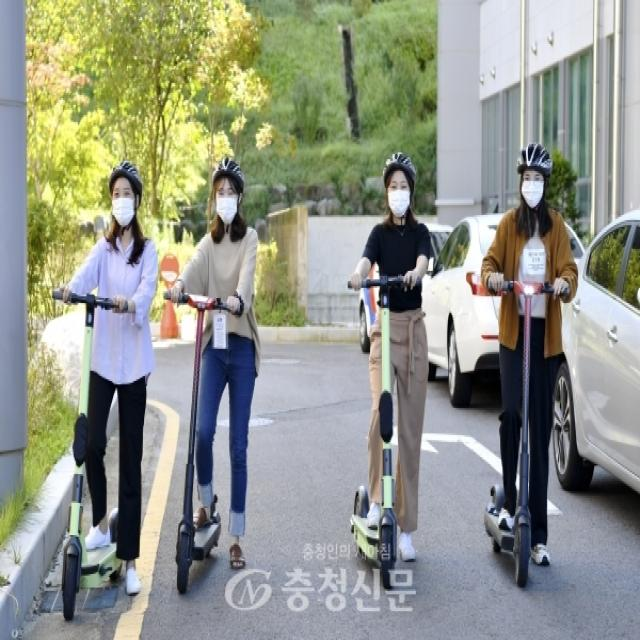helmet: (49, 153, 158, 624), (163, 154, 264, 600), (482, 140, 580, 594), (346, 150, 436, 589)
